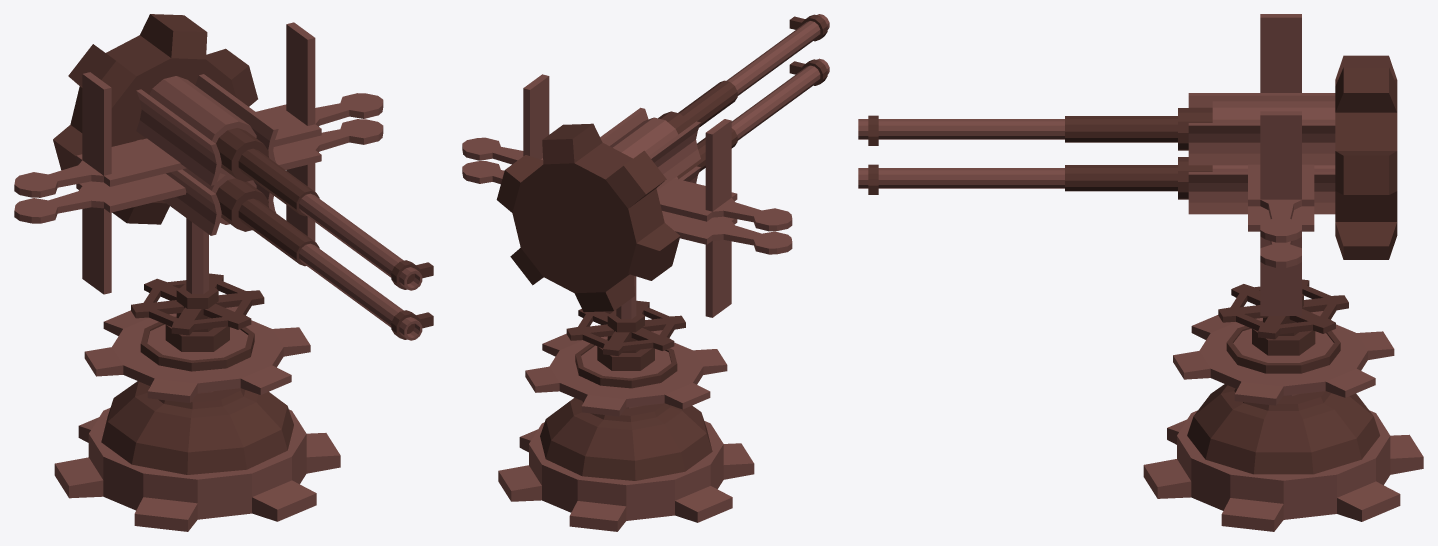
Rendered from t_Gun_6.glb.
The picture shows the model from 3 angles, left to right: view 1: azimuth 30°, elevation 25°; view 2: azimuth 150°, elevation 25°; view 3: azimuth 270°, elevation 25°; orthographic projection. The views are drawn at different scales.
Parts seen in each view (by area): view 1: Gun_6_Gun_Cylinder.216, Gun_6_Base_Cylinder.071, Gun_6_Mid_Cylinder.215; view 2: Gun_6_Gun_Cylinder.216, Gun_6_Base_Cylinder.071, Gun_6_Mid_Cylinder.215; view 3: Gun_6_Gun_Cylinder.216, Gun_6_Base_Cylinder.071, Gun_6_Mid_Cylinder.215.
Part boxes in pixels (<box>): Gun_6_Gun_Cylinder.216: <box>14,14,433,340</box>; Gun_6_Base_Cylinder.071: <box>54,316,340,531</box>; Gun_6_Mid_Cylinder.215: <box>84,218,310,402</box>; Gun_6_Gun_Cylinder.216: <box>462,14,829,317</box>; Gun_6_Base_Cylinder.071: <box>498,343,754,531</box>; Gun_6_Mid_Cylinder.215: <box>525,276,727,416</box>; Gun_6_Gun_Cylinder.216: <box>858,14,1397,315</box>; Gun_6_Base_Cylinder.071: <box>1143,320,1423,531</box>; Gun_6_Mid_Cylinder.215: <box>1173,279,1394,405</box>.
Bounding box in the file's own units: 2.02 × 2.23 × 2.78.
